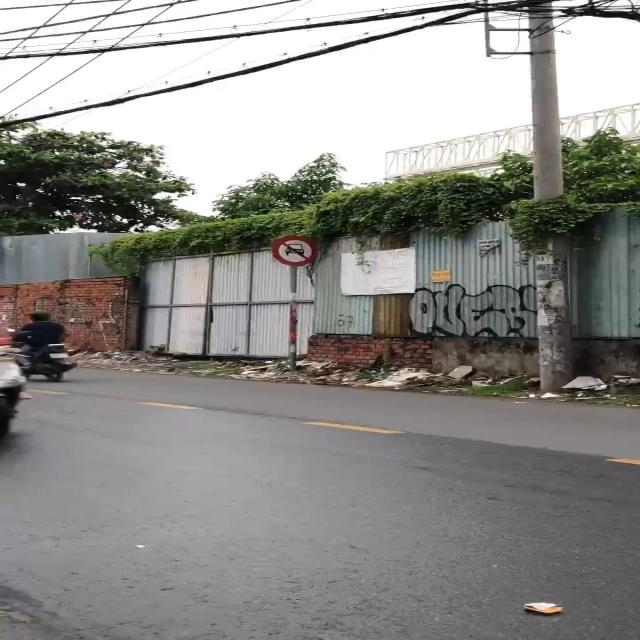Bien bao cam xe oto: (270, 233, 321, 267)
